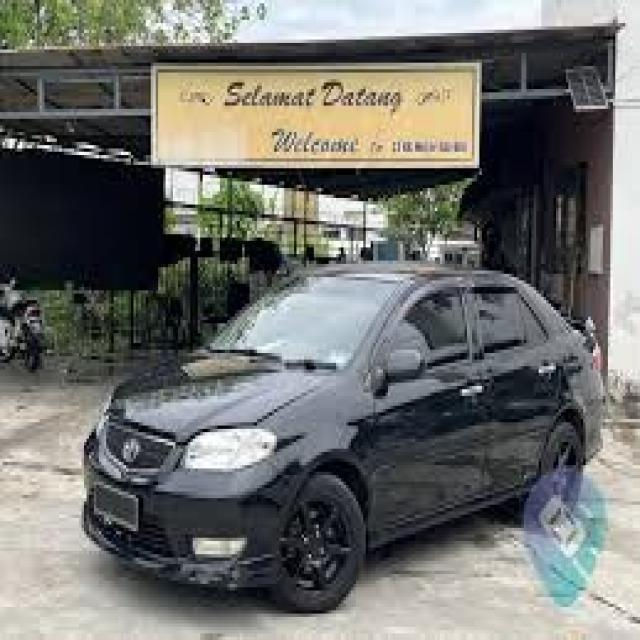ToyotaVios: (80, 259, 606, 613)
